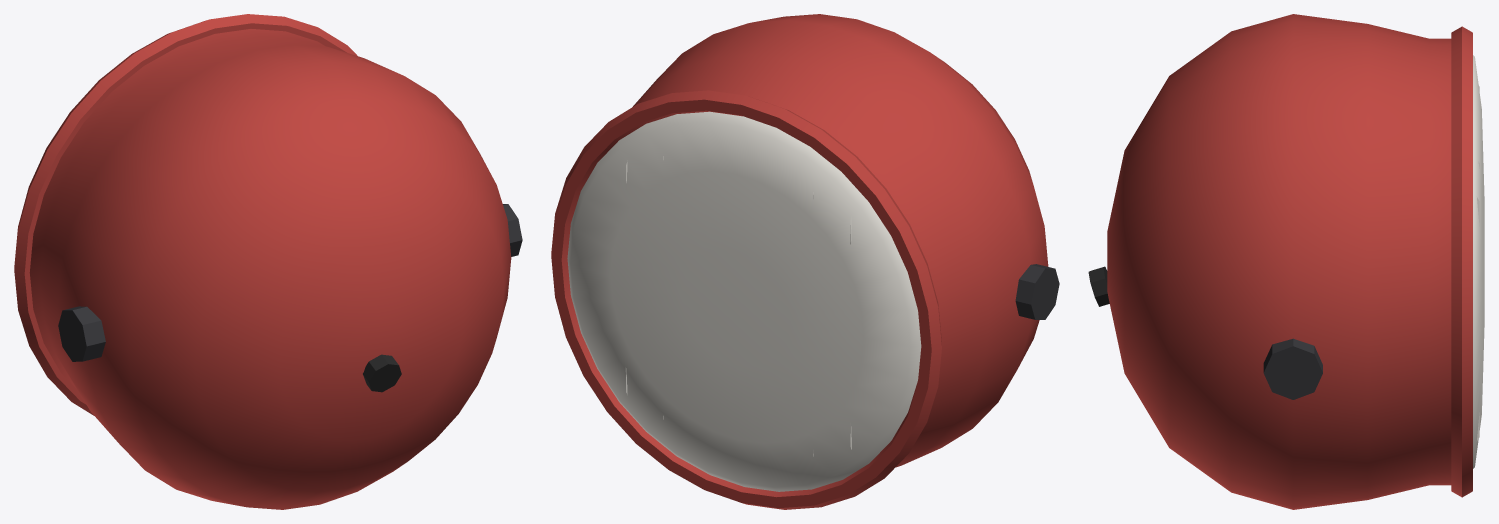
The model's file is round.glb.
3 views of the same model, side by side, from view 1: azimuth 30°, elevation 25°; view 2: azimuth 150°, elevation 25°; view 3: azimuth 270°, elevation 25° (orthographic). The views are drawn at different scales.
Parts seen in each view (by area): view 1: lod0; view 2: lod0; view 3: lod0.
Part boxes in pixels (box(x1,y1,x2,y2)): lod0: box(14, 14, 522, 509); lod0: box(551, 14, 1059, 509); lod0: box(1088, 14, 1484, 509).
Size of what is drawn, in the model's own units: 2.12 by 2 by 1.6.
